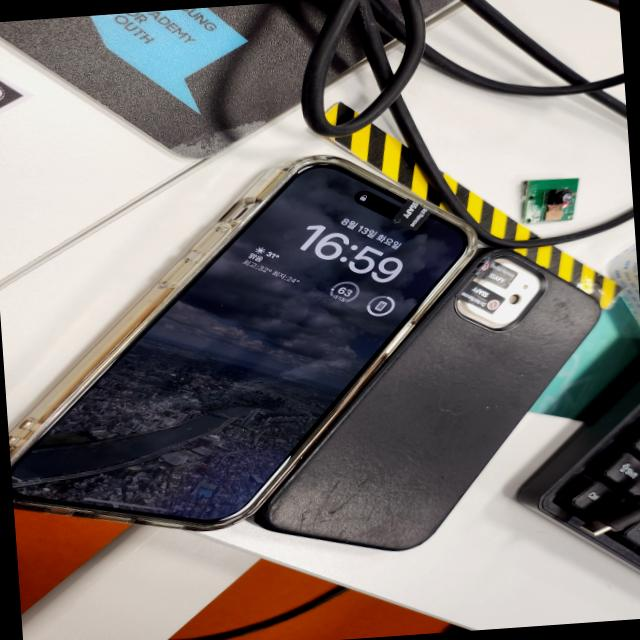phone: (0, 151, 490, 541), (241, 241, 620, 561)
sticker: (388, 199, 438, 236), (453, 284, 505, 316), (466, 260, 518, 290)
